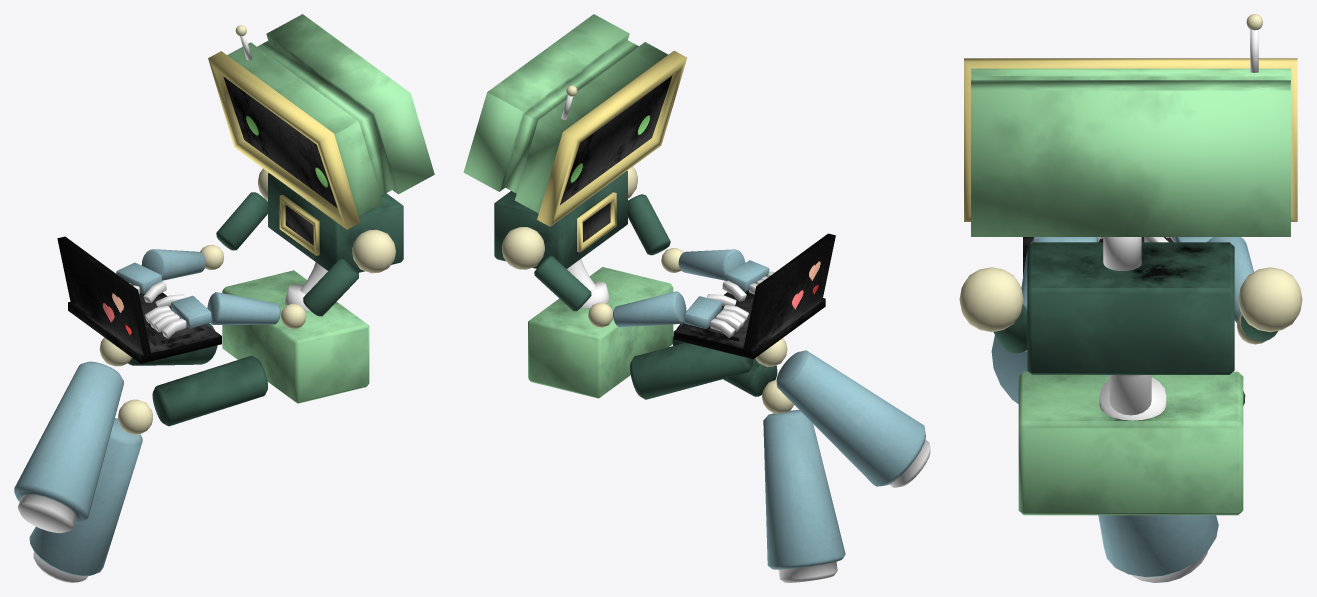
Rendered from robotLaptop.gltf.
3 renders of one model, left to right at view 1: azimuth 30°, elevation 25°; view 2: azimuth 150°, elevation 25°; view 3: azimuth 270°, elevation 25°, orthographic. The views are drawn at different scales.
Parts seen in each view (by area): view 1: robotLaptop; view 2: robotLaptop; view 3: robotLaptop.
Boxes of the visible parts, x1,y1,x2,y2 form: robotLaptop: (14, 14, 434, 582); robotLaptop: (463, 14, 930, 582); robotLaptop: (959, 14, 1302, 582).
Size of the model in its own units: 4.2 by 4.96 by 2.18.
Materials: 9 (9 with a texture image).
